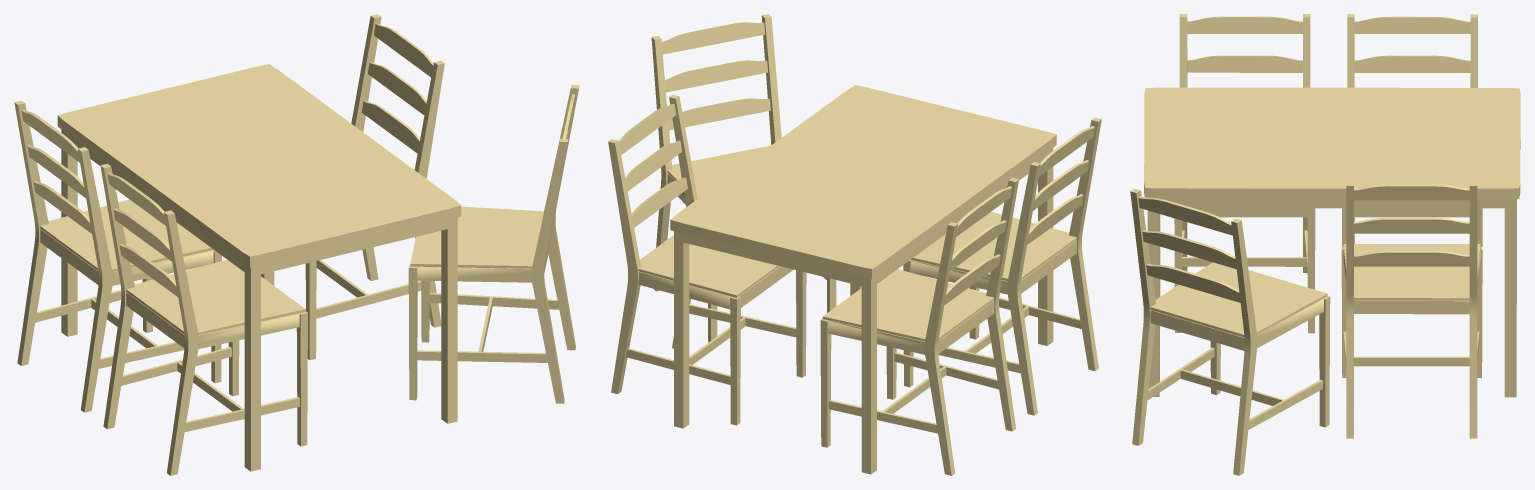
File: IKEA-Jokkmokk_Table_Light_Brown-3D.obj
3 views of the same model, side by side, from view 1: azimuth 30°, elevation 25°; view 2: azimuth 150°, elevation 25°; view 3: azimuth 270°, elevation 25° (orthographic). The views are drawn at different scales.
Parts seen in each view (by area): view 1: Box03, Box08, Box09, Box07, Box06; view 2: Box03, Box09, Box06, Box08, Box07; view 3: Box03, Box07, Box06, Box08, Box09.
Part boxes in pixels (x1,y1,x2,y2): Box03: (57,64,461,471); Box08: (100,163,307,475); Box09: (14,100,221,412); Box07: (408,85,579,403); Box06: (305,14,444,360); Box03: (670,85,1056,474); Box09: (820,177,1018,475); Box06: (608,94,806,425); Box08: (903,117,1101,415); Box07: (651,14,836,342); Box03: (1144,87,1520,397); Box07: (1130,188,1330,475); Box06: (1341,182,1482,438); Box08: (1174,14,1315,333); Box09: (1342,14,1482,283).
Size of the model in its own units: 158 by 89.67 by 125.
